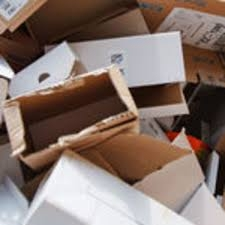paper: (22, 122, 213, 220), (5, 60, 145, 169), (35, 32, 209, 116)
